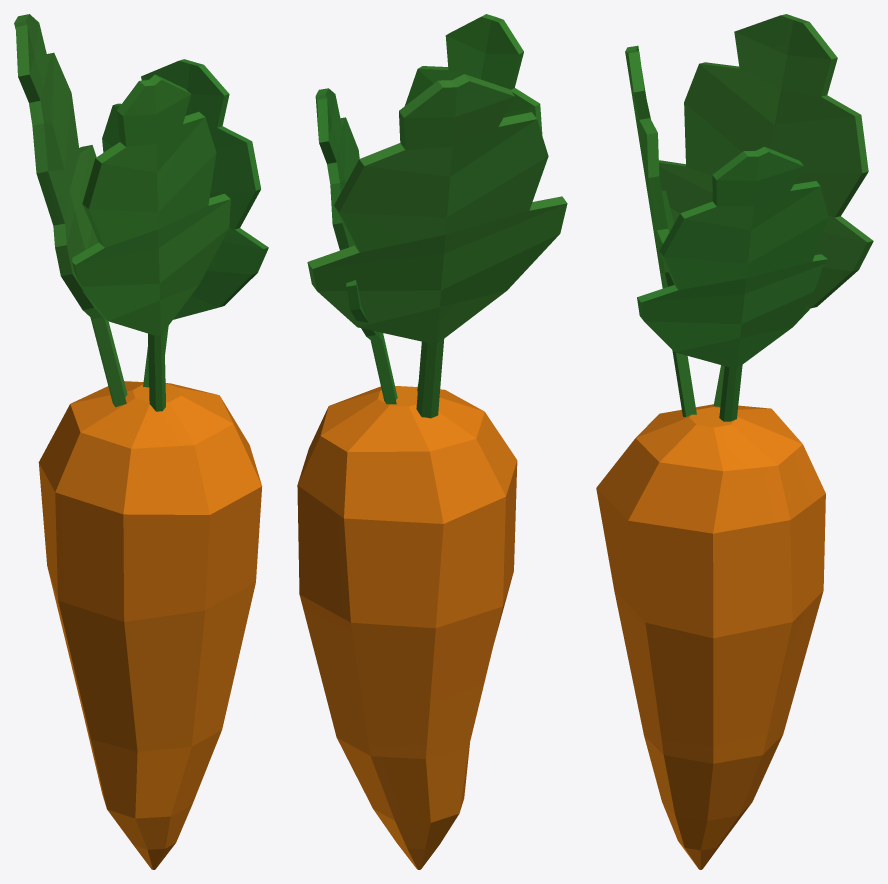
Rendered from CarrotPalitra.fbx.
3 renders of one model, left to right at view 1: azimuth 30°, elevation 25°; view 2: azimuth 150°, elevation 25°; view 3: azimuth 270°, elevation 25°, orthographic. The views are drawn at different scales.
Visible parts, largest first — view 1: Cylinder, Cube; view 2: Cylinder, Cube; view 3: Cylinder, Cube.
Part boxes in pixels (<box>): Cylinder: <box>38,381,262,869</box>; Cube: <box>14,14,268,411</box>; Cylinder: <box>297,386,517,869</box>; Cube: <box>307,14,567,418</box>; Cylinder: <box>596,404,825,869</box>; Cube: <box>625,14,873,421</box>.
Bounding box in the file's own units: 0.2909 × 1.03 × 0.3193.
